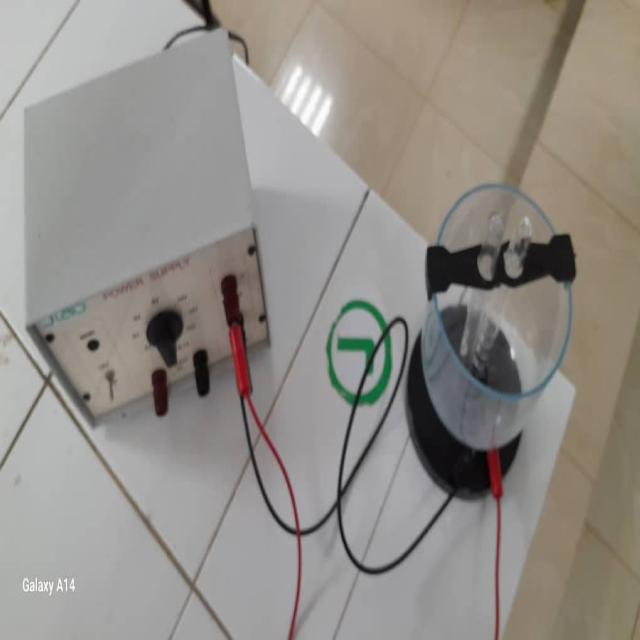Electrolyzer: (402, 181, 576, 506)
